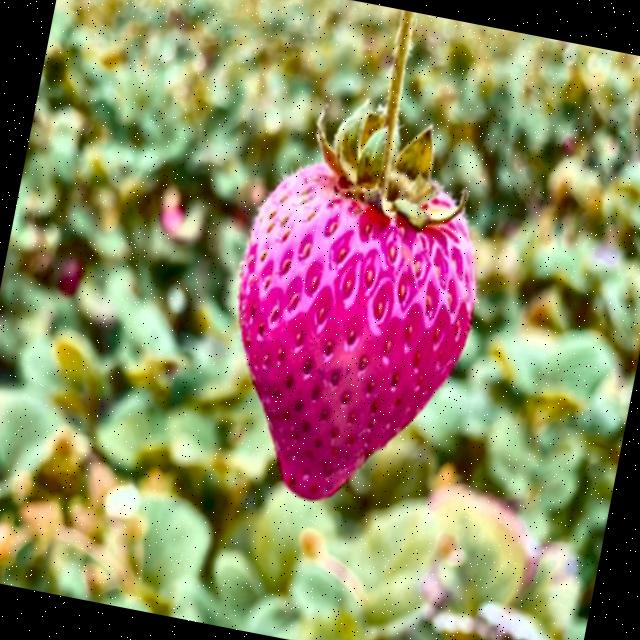strawberry: (238, 11, 476, 500)
